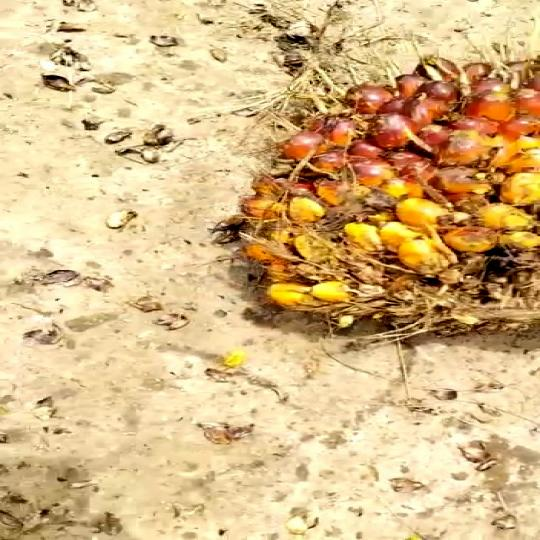masak: (228, 53, 540, 364)
